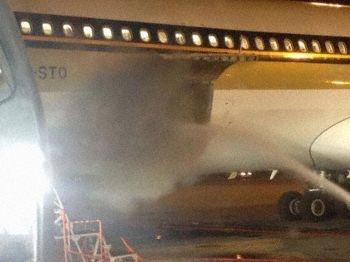smoke: (57, 67, 211, 195)
